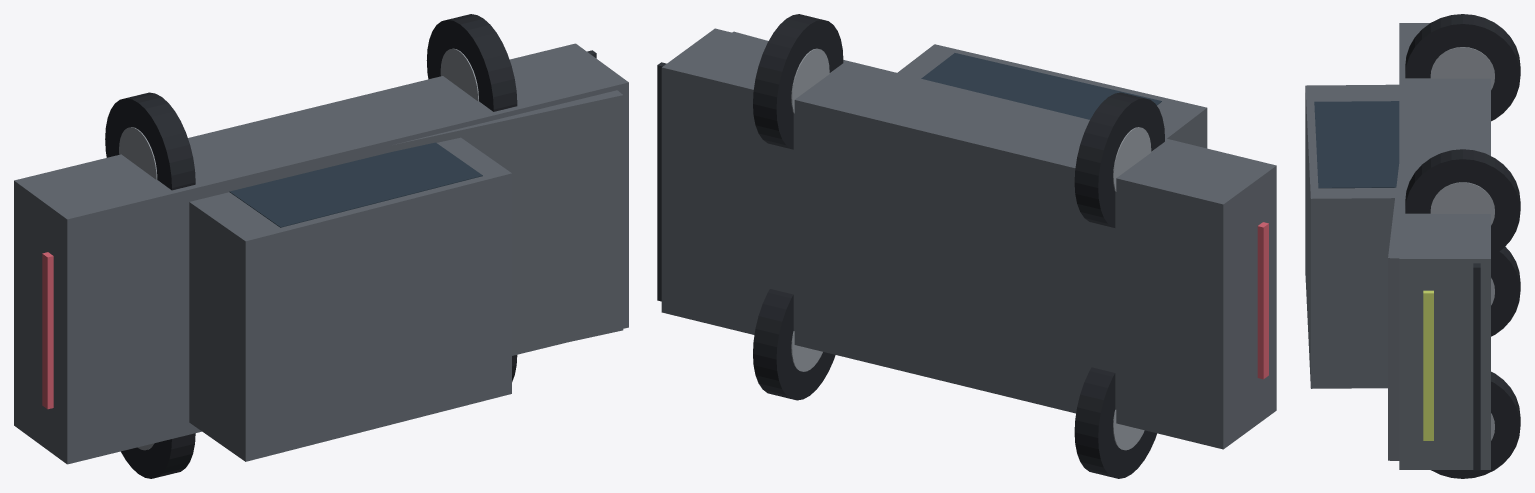
The model's file is suv.glb.
The picture shows the model from 3 angles, left to right: view 1: azimuth 30°, elevation 25°; view 2: azimuth 150°, elevation 25°; view 3: azimuth 270°, elevation 25°; orthographic projection. The views are drawn at different scales.
Visible parts, largest first — view 1: part2, part0, part1, part3, part6, part10, part4, part13, part7, part11; view 2: part0, part6, part10, part3, part4, part8, part2, part13, part7, part11, part14, part9 (+1 smaller); view 3: part0, part2, part3, part6, part10, part1, part8, part4, part7, part11, part14, part12.
Part boxes in pixels (left/top/right/bottom): part2: left=189, top=137, right=511, bottom=461; part0: left=14, top=43, right=628, bottom=464; part1: left=389, top=90, right=623, bottom=354; part3: left=229, top=142, right=482, bottom=227; part6: left=105, top=92, right=195, bottom=190; part10: left=426, top=14, right=517, bottom=111; part4: left=121, top=433, right=195, bottom=478; part13: left=42, top=252, right=53, bottom=409; part7: left=119, top=127, right=157, bottom=179; part11: left=440, top=48, right=478, bottom=101; part0: left=661, top=28, right=1276, bottom=449; part6: left=1074, top=92, right=1164, bottom=227; part10: left=753, top=14, right=843, bottom=149; part3: left=921, top=53, right=1161, bottom=119; part4: left=1074, top=367, right=1156, bottom=478; part8: left=753, top=289, right=835, bottom=400; part2: left=897, top=44, right=1207, bottom=148; part13: left=1257, top=222, right=1268, bottom=379; part7: left=1113, top=127, right=1151, bottom=191; part11: left=791, top=48, right=829, bottom=113; part14: left=657, top=62, right=666, bottom=301; part9: left=791, top=331, right=822, bottom=371; part0: left=1399, top=23, right=1490, bottom=469; part2: left=1305, top=84, right=1399, bottom=388; part3: left=1314, top=101, right=1399, bottom=188; part6: left=1405, top=14, right=1520, bottom=121; part10: left=1405, top=149, right=1520, bottom=256; part1: left=1388, top=164, right=1399, bottom=460; part8: left=1431, top=371, right=1520, bottom=478; part4: left=1491, top=246, right=1520, bottom=336; part7: left=1430, top=47, right=1494, bottom=89; part11: left=1430, top=182, right=1494, bottom=225; part14: left=1473, top=263, right=1480, bottom=470; part12: left=1423, top=290, right=1433, bottom=440.
Size of the model in its own units: 4.89 by 3 by 1.83.
